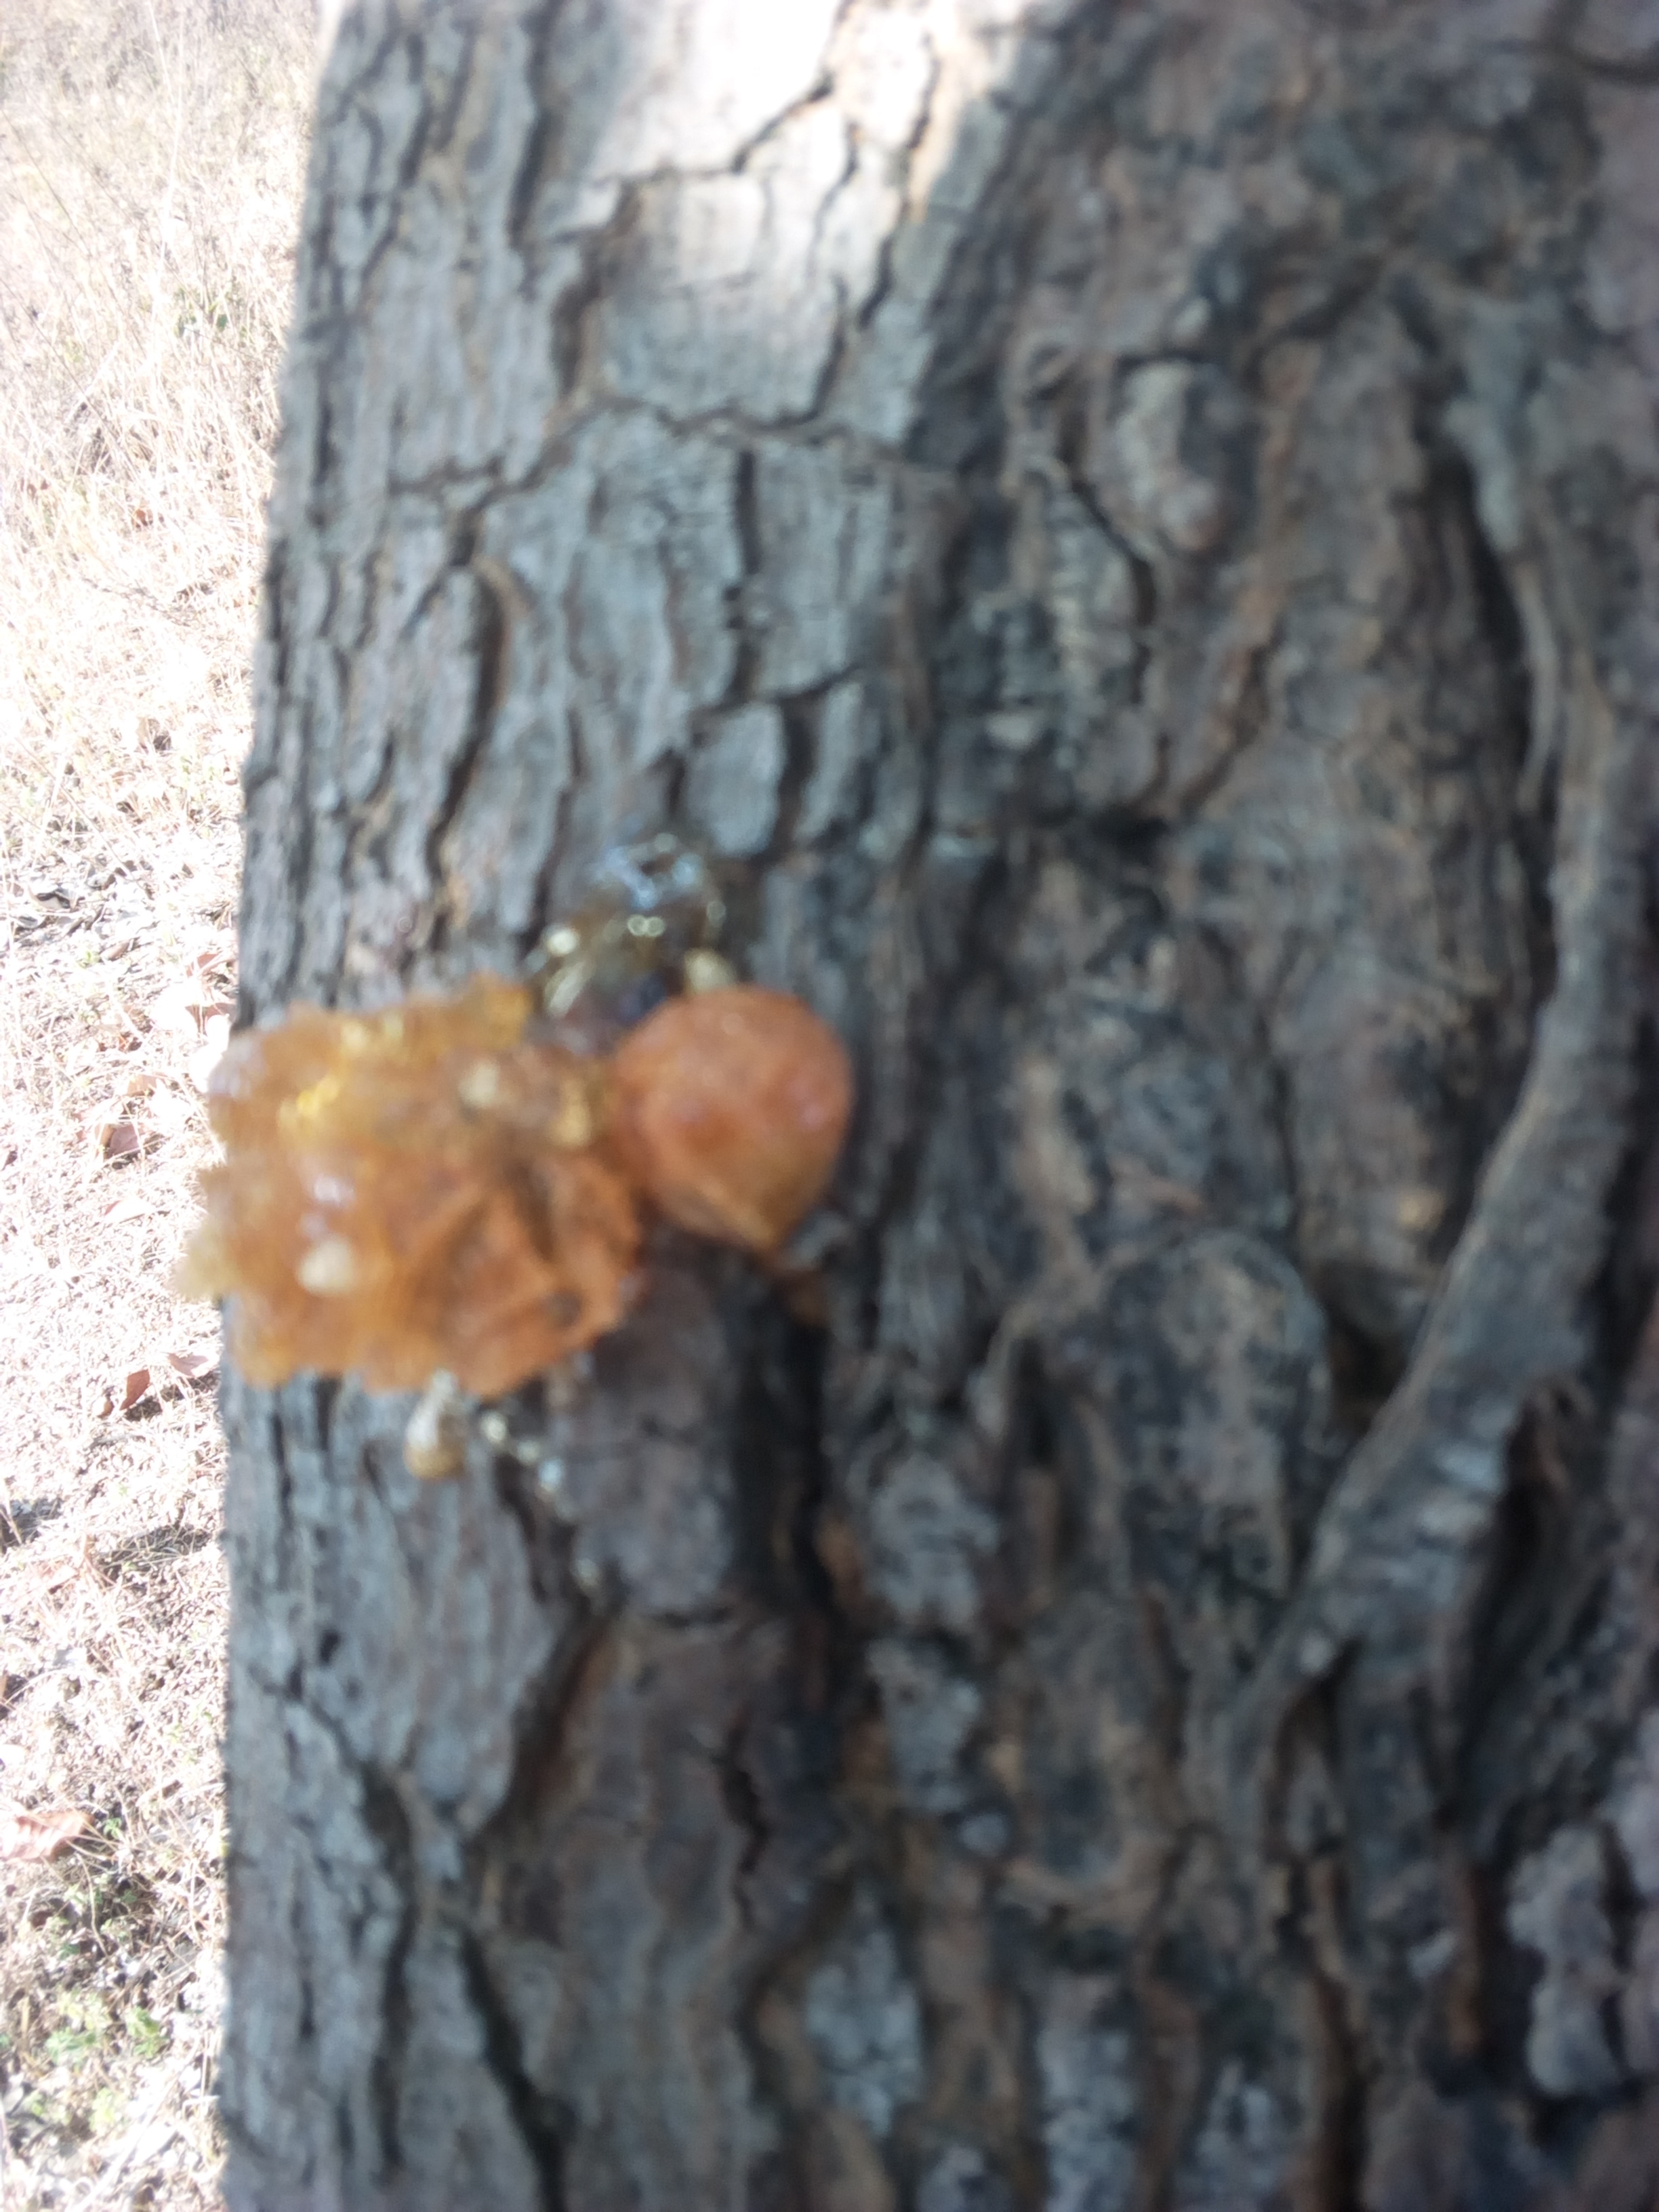Gommose: (244, 913, 1643, 2212)
